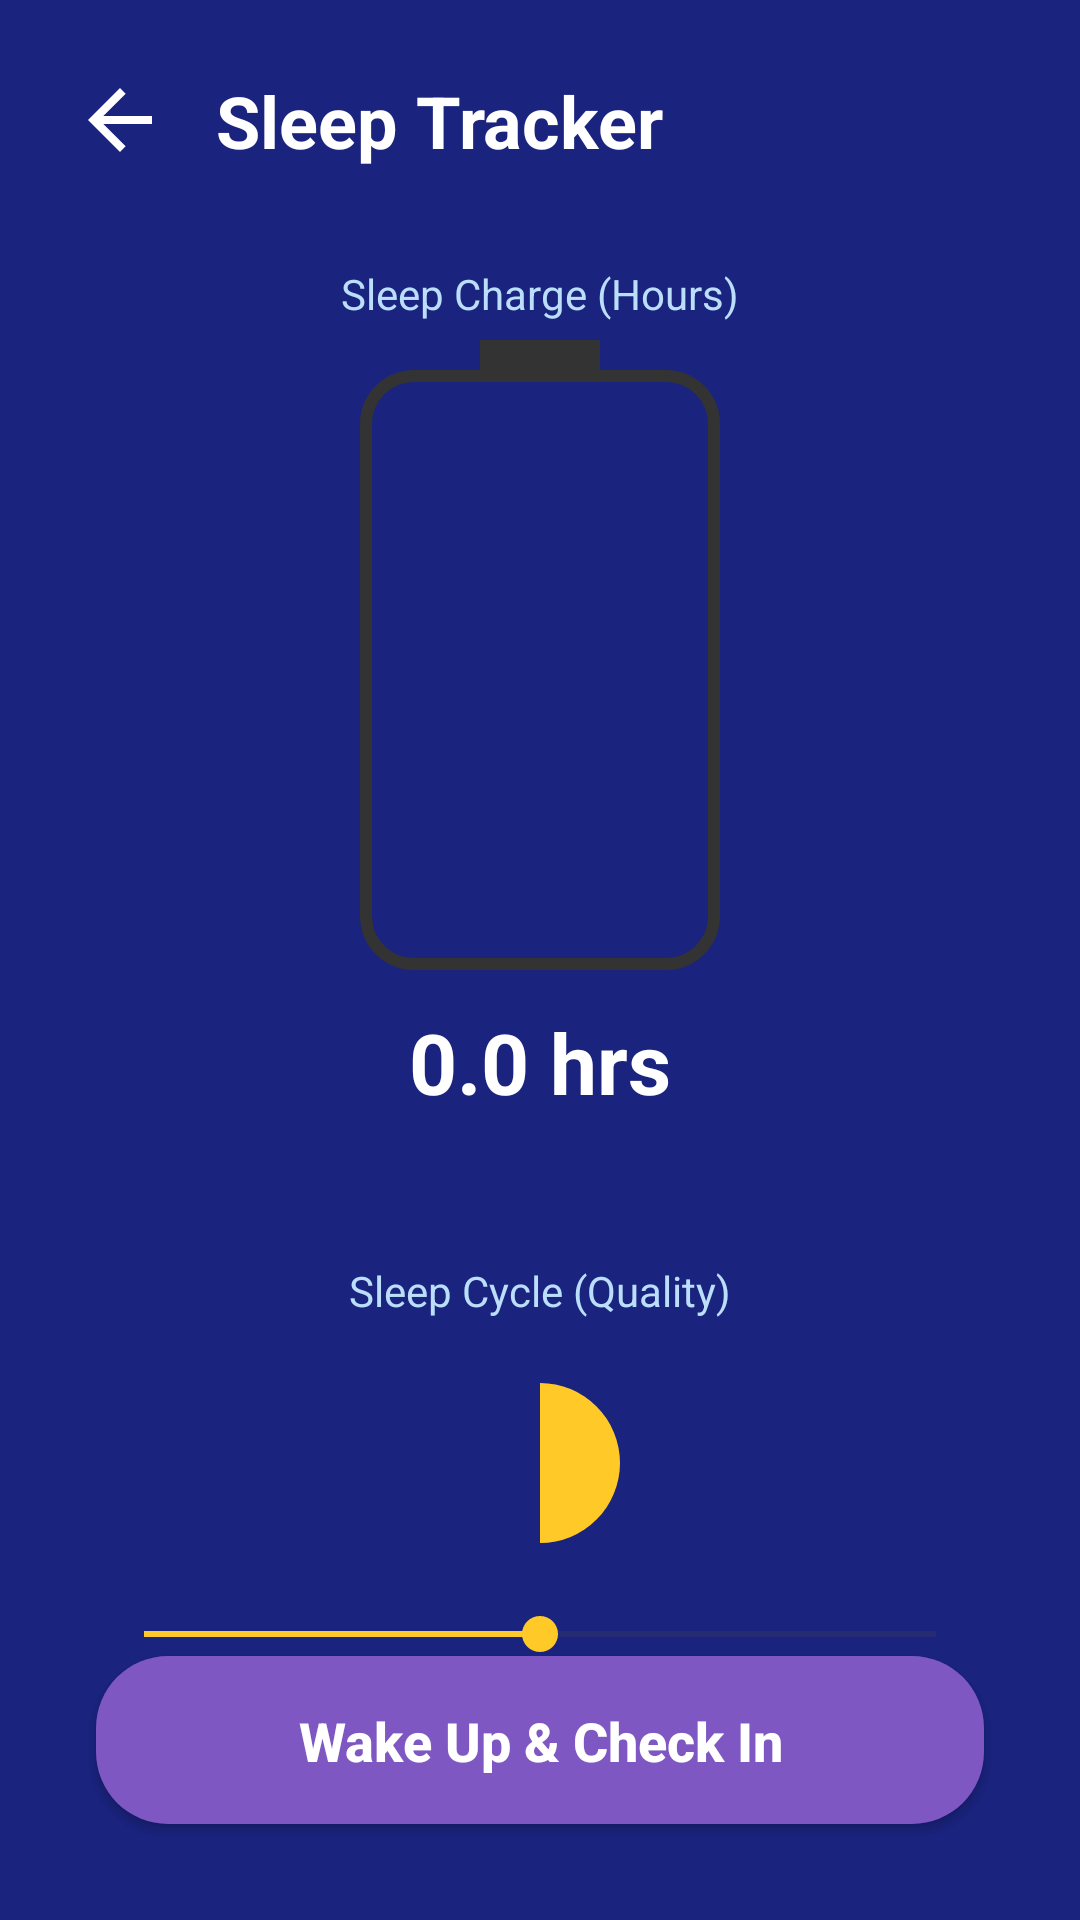

Locate icon controls on the screen. Image size 1080px x 1920px, boxes as (x1, y1, x2, y2).
arrow back: (88, 88, 152, 152)
moon half: (540, 1383, 620, 1543)
